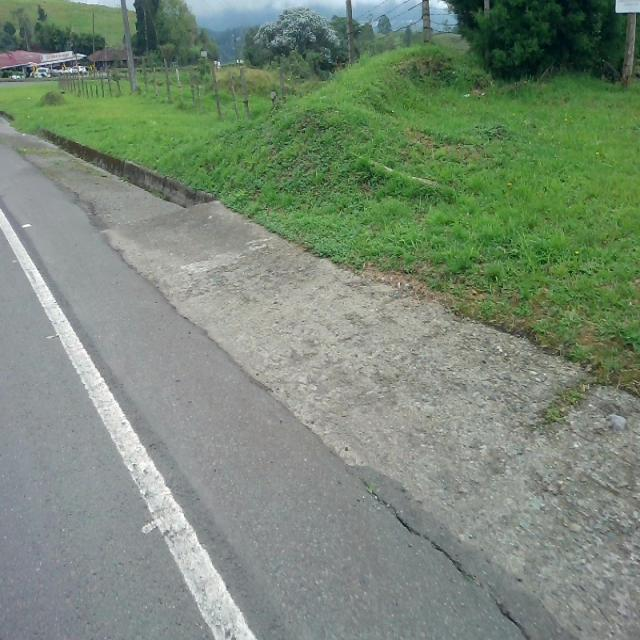DITCH: (2, 110, 638, 638)
